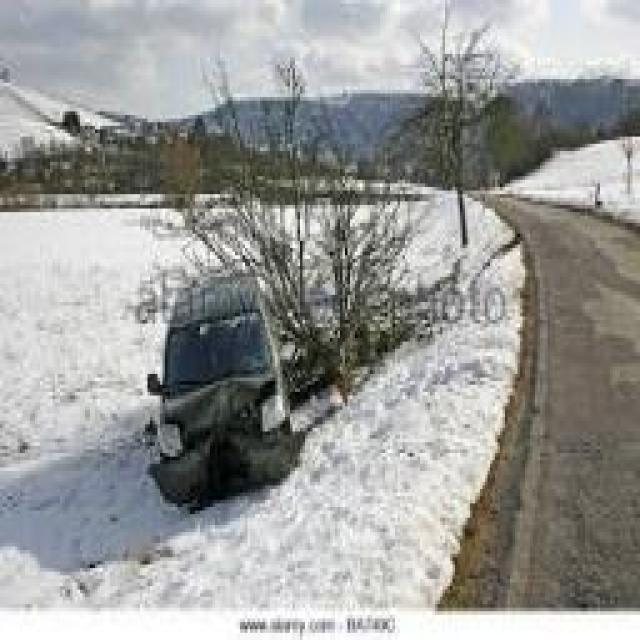Bonnet: (165, 370, 276, 446)
Bumper: (146, 428, 315, 512)
